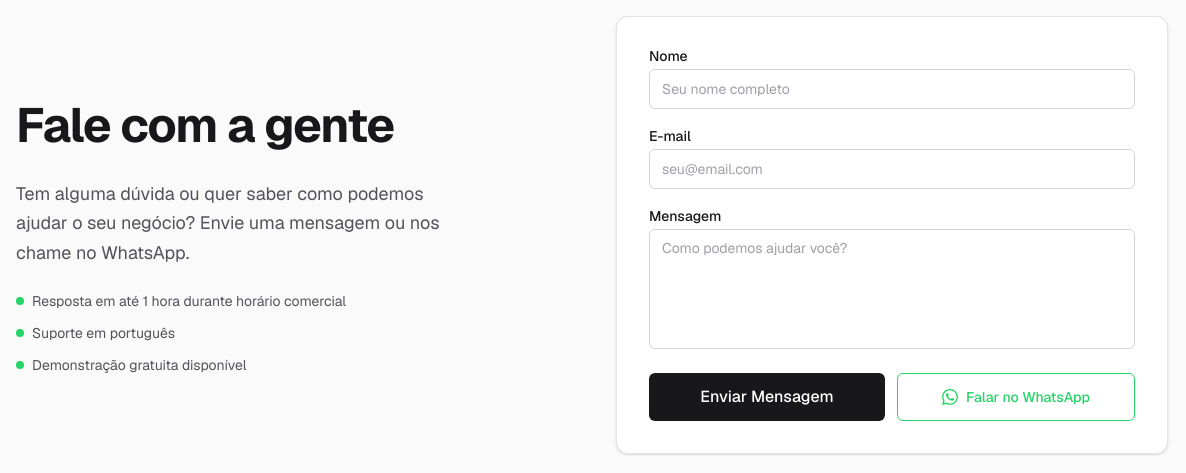
it: Contact form › success state › shows success message after successful submit
Type "João" into the field labelled "Nome".
click(892, 89); type("João")  # box [649,69,1135,109]
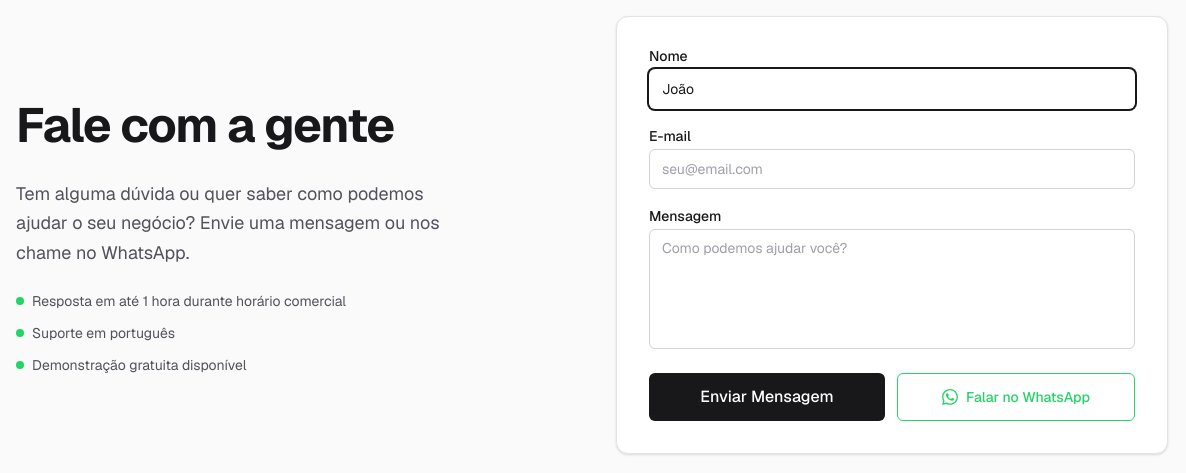
Type "joao@example.com" into the field labelled "E-mail".
click(892, 169); type("joao@example.com")  # box [649,149,1135,189]
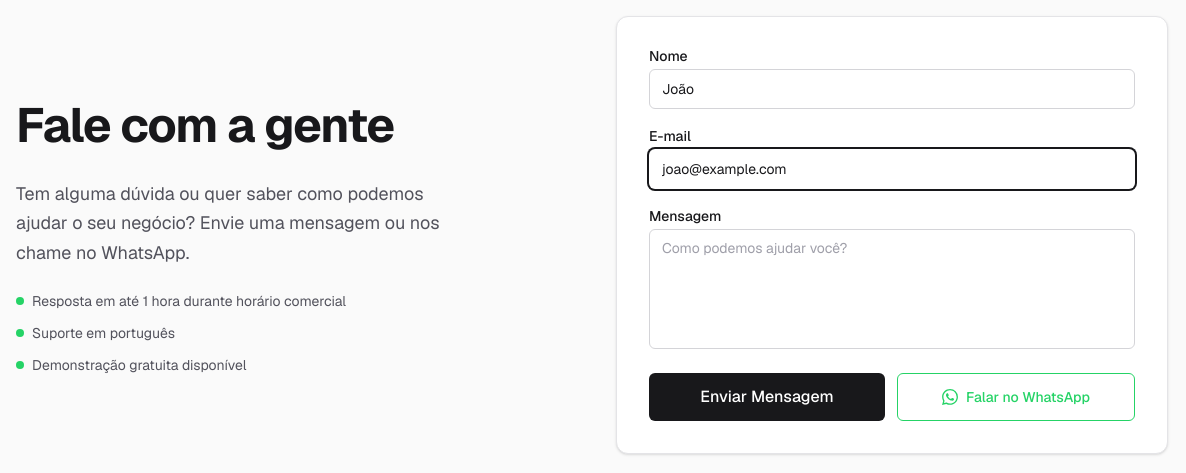
Type "Olá" into the text box labelled "Mensagem".
click(892, 289); type("Olá")  # box [649,229,1135,349]
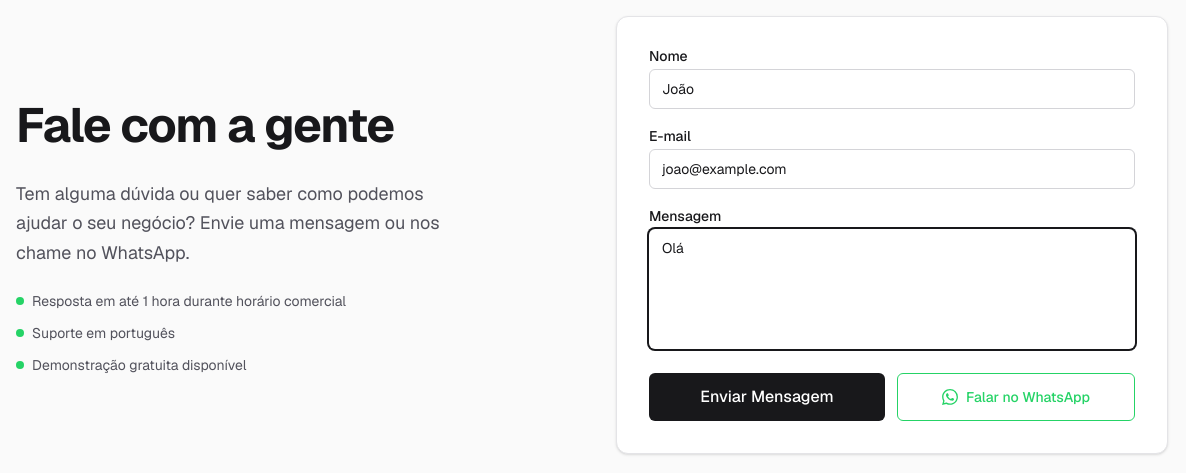
Click the button "Enviar Mensagem".
click(767, 397)  # box [649,373,885,421]
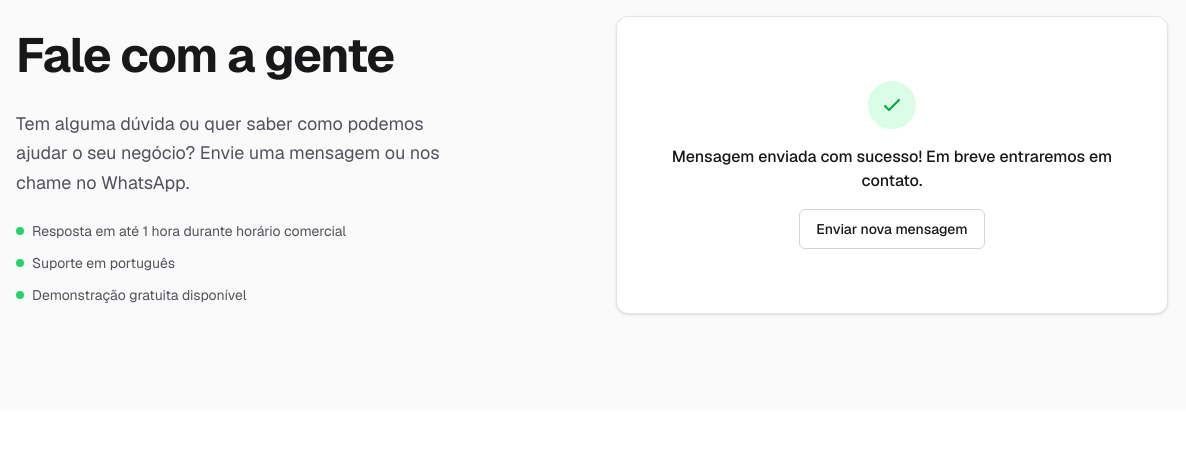
expect the text "Mensagem enviada com sucesso" is shown: met, box [672,146,1112,191]
